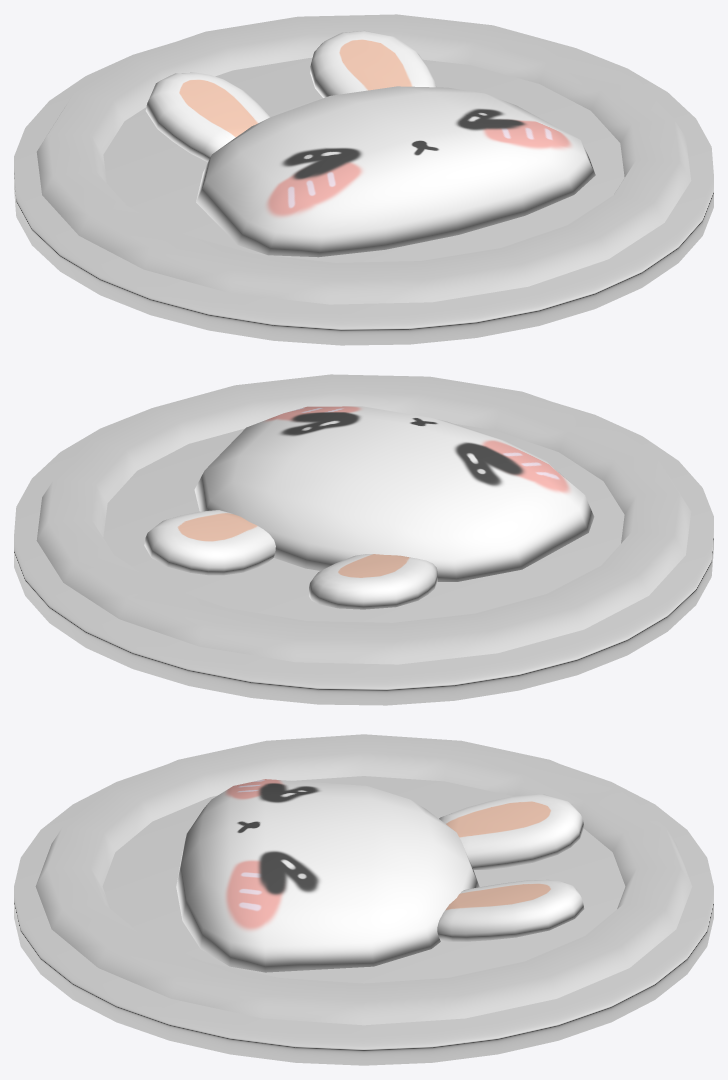
3 renders of one model, top to bottom at view 1: azimuth 30°, elevation 25°; view 2: azimuth 150°, elevation 25°; view 3: azimuth 270°, elevation 25°, orthographic.
Parts seen in each view (by area): view 1: 柱体.001, 立方体.002; view 2: 柱体.001, 立方体.002; view 3: 柱体.001, 立方体.002.
Boxes of the visible parts, <box> form: 柱体.001: <box>14,14,713,345</box>; 立方体.002: <box>145,30,595,257</box>; 柱体.001: <box>14,374,713,705</box>; 立方体.002: <box>144,406,594,609</box>; 柱体.001: <box>14,734,713,1065</box>; 立方体.002: <box>176,779,584,972</box>.
Bounding box in the file's own units: 0.2066 × 0.0309 × 0.2066.
2 materials, 1 textured.
